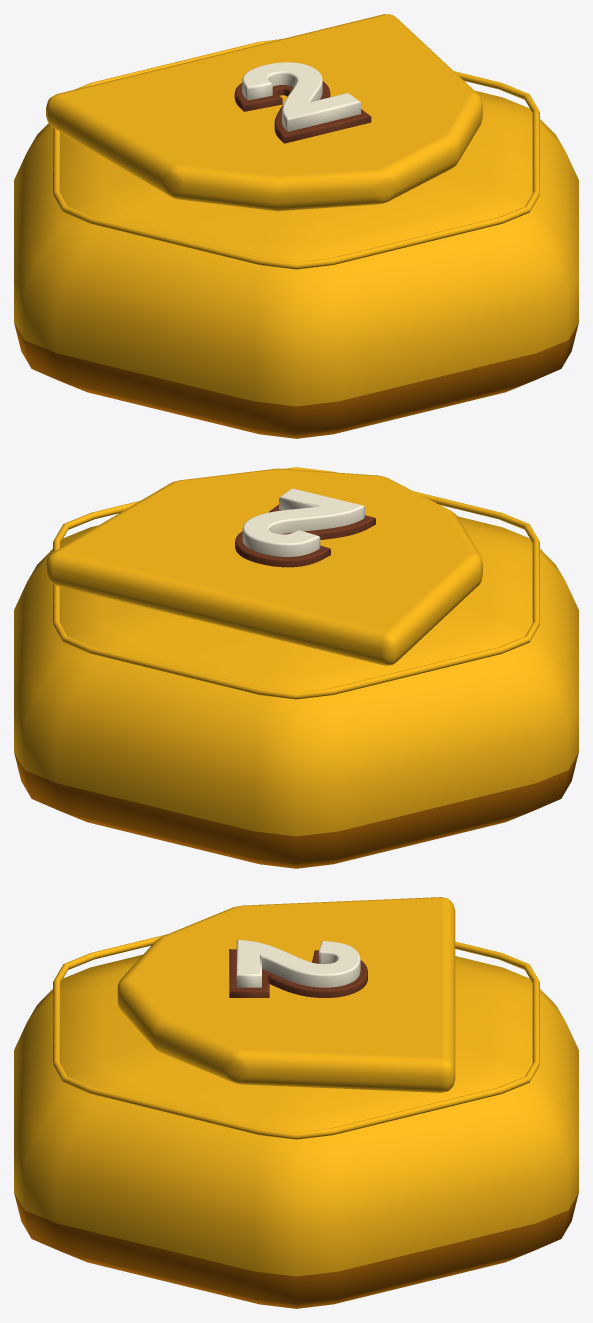
File: HexStone_02_Yellow.fbx
3 views of the same model, one above another, from view 1: azimuth 30°, elevation 25°; view 2: azimuth 150°, elevation 25°; view 3: azimuth 270°, elevation 25° (orthographic).
Visible parts, largest first — view 1: HX_V03_Yellow_Body, HX_ToneRelief_02, HX_V03_Yellow_InnerRim, HX_V03_Digit_2_Face, HX_V03_Digit_2_Outline; view 2: HX_V03_Yellow_Body, HX_ToneRelief_02, HX_V03_Yellow_InnerRim, HX_V03_Digit_2_Face, HX_V03_Digit_2_Outline; view 3: HX_V03_Yellow_Body, HX_ToneRelief_02, HX_V03_Yellow_InnerRim, HX_V03_Digit_2_Face, HX_V03_Digit_2_Outline.
Boxes of the visible parts, box(x1,y1,x2,y2) form: HX_V03_Yellow_Body: box(14, 90, 578, 438); HX_ToneRelief_02: box(46, 14, 482, 211); HX_V03_Yellow_InnerRim: box(53, 39, 539, 269); HX_V03_Digit_2_Face: box(242, 62, 360, 131); HX_V03_Digit_2_Outline: box(234, 81, 371, 143); HX_V03_Yellow_Body: box(14, 516, 578, 868); HX_ToneRelief_02: box(46, 468, 482, 665); HX_V03_Yellow_InnerRim: box(53, 467, 539, 699); HX_V03_Digit_2_Face: box(242, 488, 364, 556); HX_V03_Digit_2_Outline: box(235, 504, 375, 567); HX_V03_Yellow_Body: box(14, 954, 578, 1308); HX_ToneRelief_02: box(117, 897, 455, 1092); HX_V03_Yellow_InnerRim: box(53, 934, 539, 1139); HX_V03_Digit_2_Face: box(236, 940, 360, 987); HX_V03_Digit_2_Outline: box(229, 949, 367, 997).
Size of the model in its own units: 75.07 by 31.05 by 67.55.
